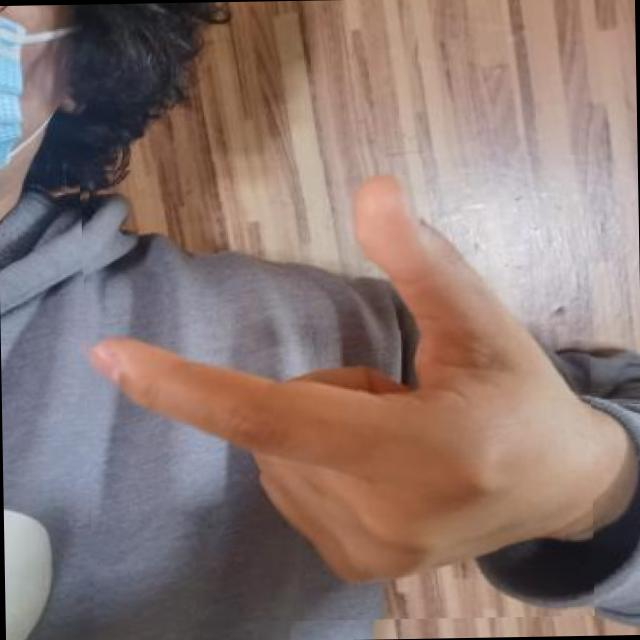G: (77, 154, 594, 624)
